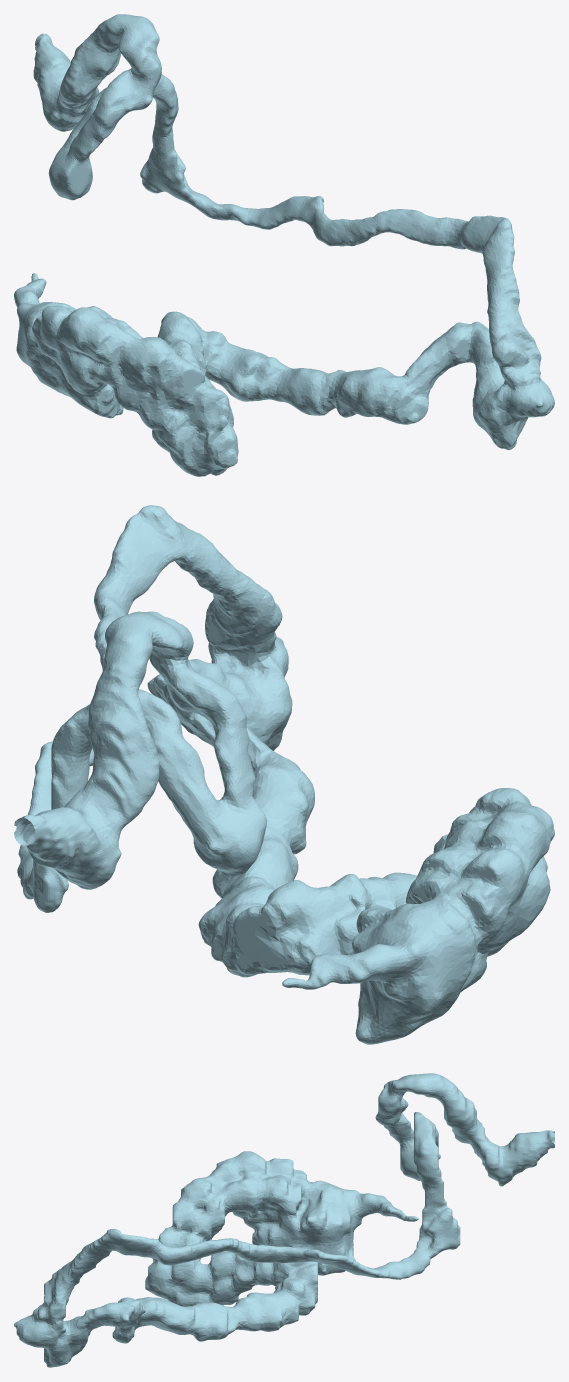
The model's file is colon.obj.
3 renders of one model, top to bottom at view 1: azimuth 30°, elevation 25°; view 2: azimuth 150°, elevation 25°; view 3: azimuth 270°, elevation 25°, orthographic. The views are drawn at different scales.
Parts seen in each view (by area): view 1: grp1; view 2: grp1; view 3: grp1.
Part boxes in pixels (box(x1,y1,x2,y2)): grp1: box(14, 14, 554, 476); grp1: box(14, 505, 554, 1044); grp1: box(14, 1073, 554, 1367).
Bounding box in the file's own units: 247 × 212 × 395.
